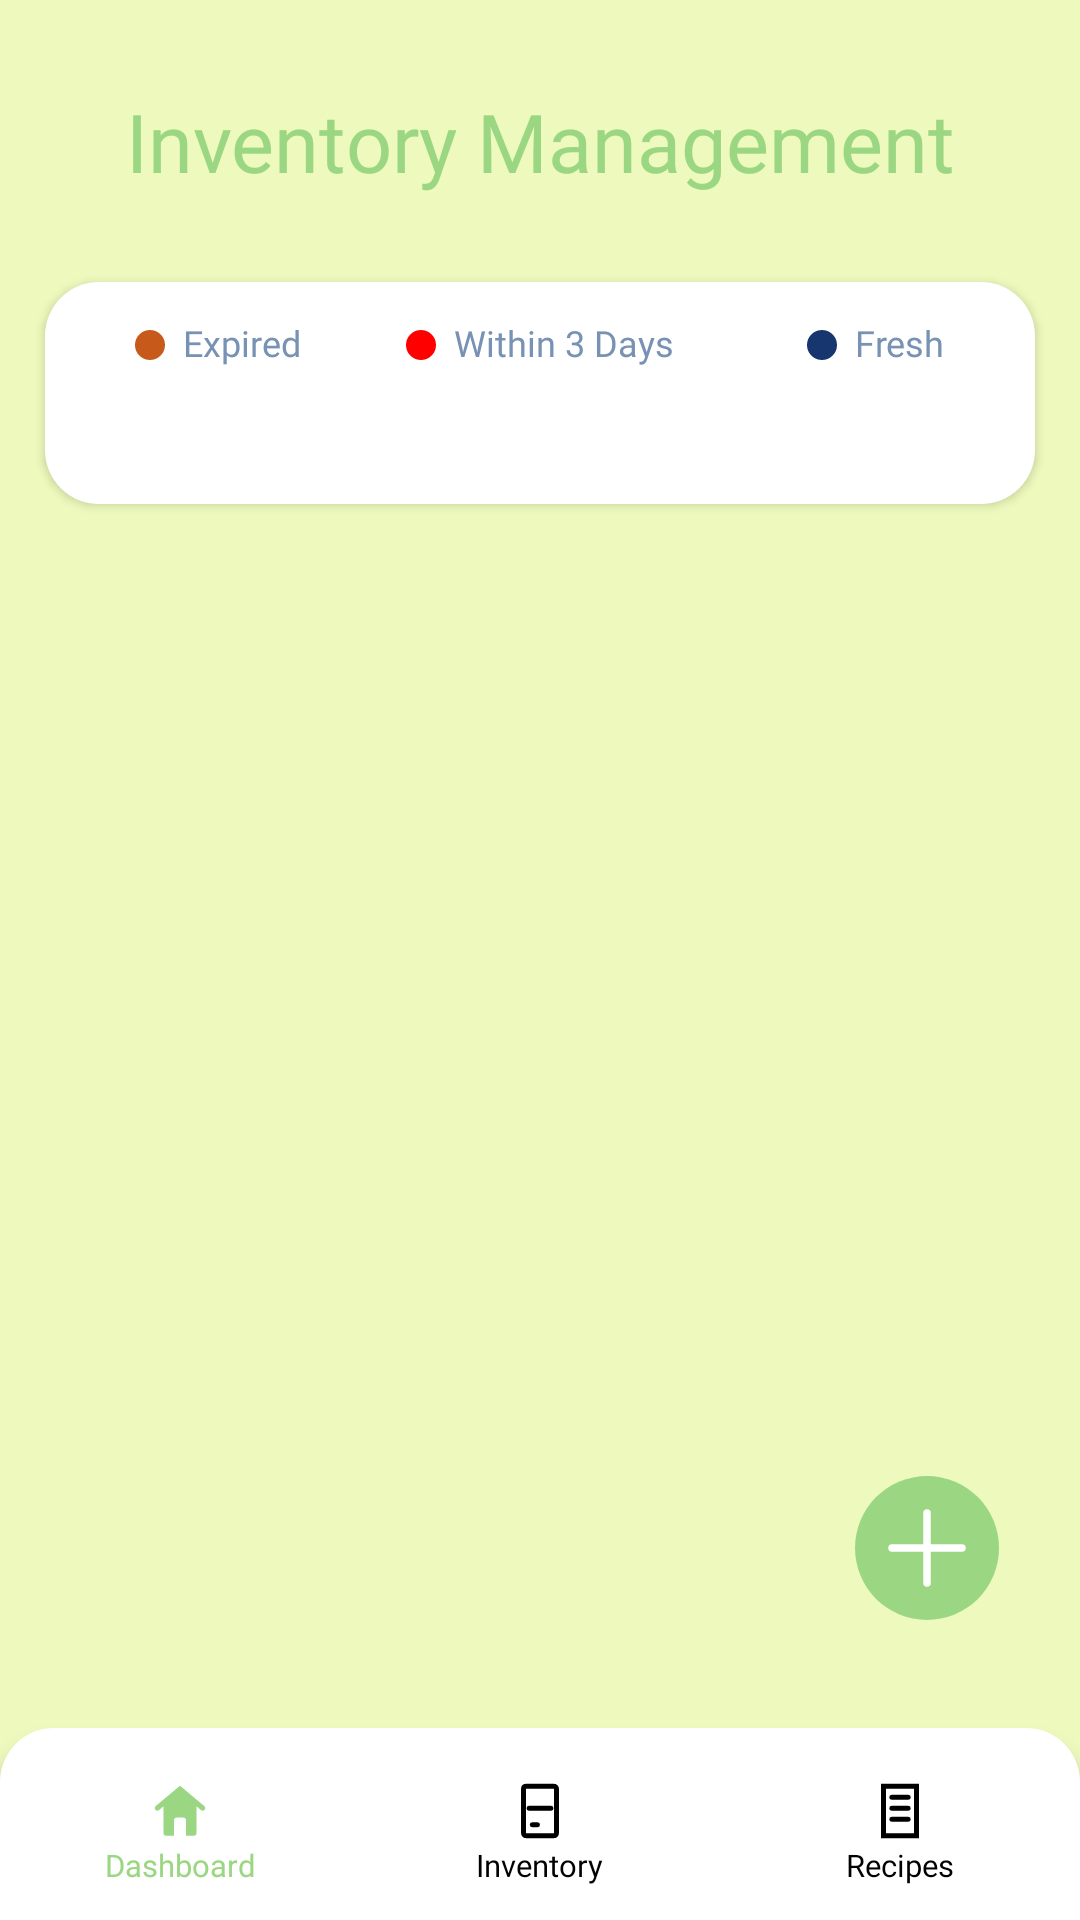

Icon click points for this 1080 × 1920 phone screenshot, format point (x, y):
add: point (927, 1548)
home: point (180, 1811)
